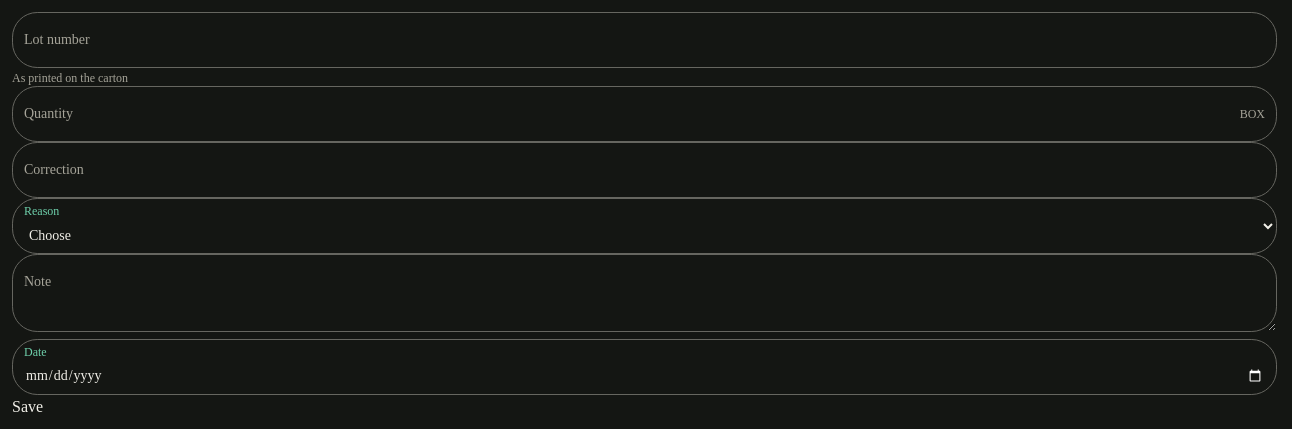
number fields › rejects a pasted thousands separator without losing the digits
Click the field labelled "Quantity". click: (644, 114)
box: [12,86,1277,142]
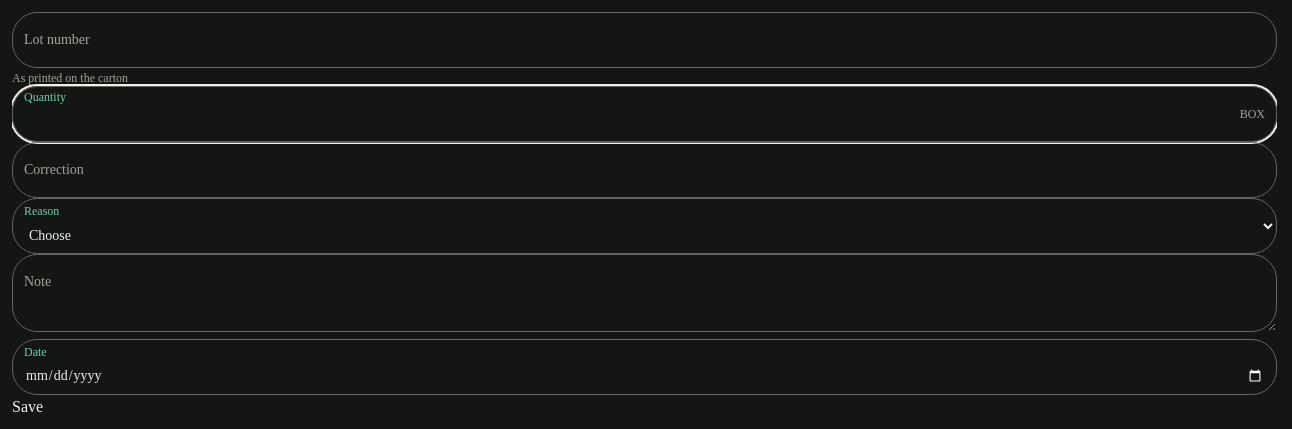
Type keys "1,200"
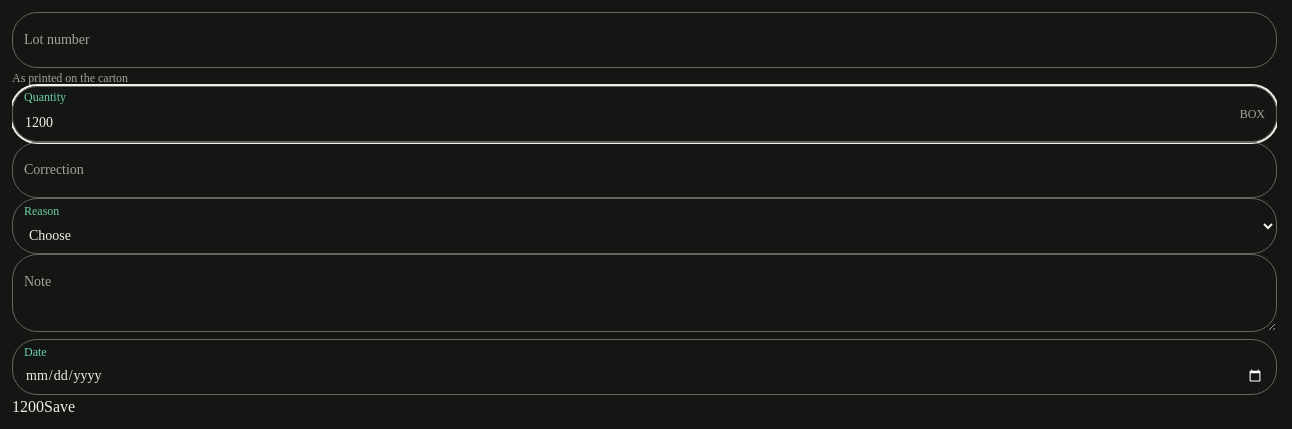
Expected: the field labelled "Quantity" holds "1200", [12,86,1277,142]
